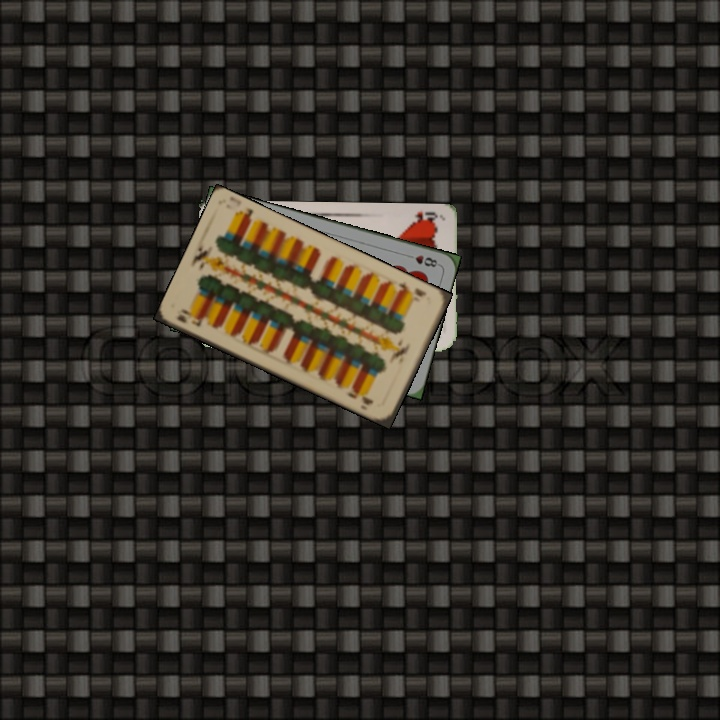E10: (393, 277, 429, 304), (173, 305, 206, 329)
H8: (402, 251, 442, 270)
HO: (408, 207, 440, 226)
